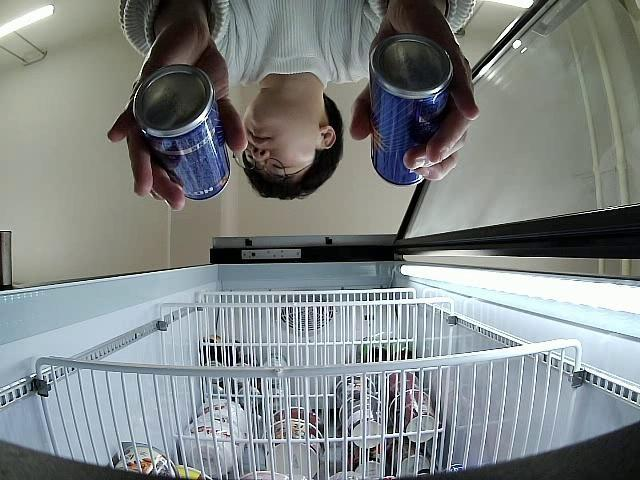16_hot6: (369, 33, 454, 188), (134, 65, 230, 200)
